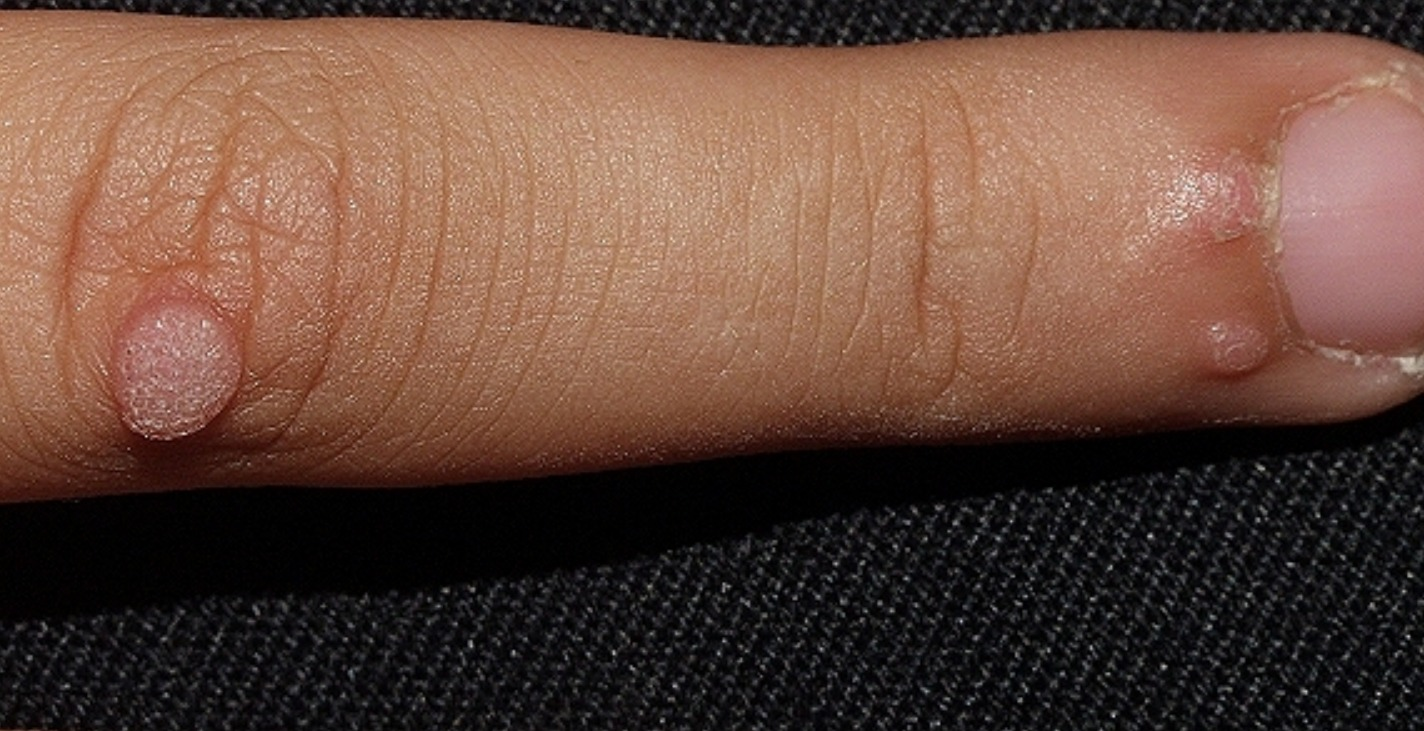Warts: (88, 267, 287, 467), (1155, 147, 1284, 270), (1191, 304, 1268, 400)
